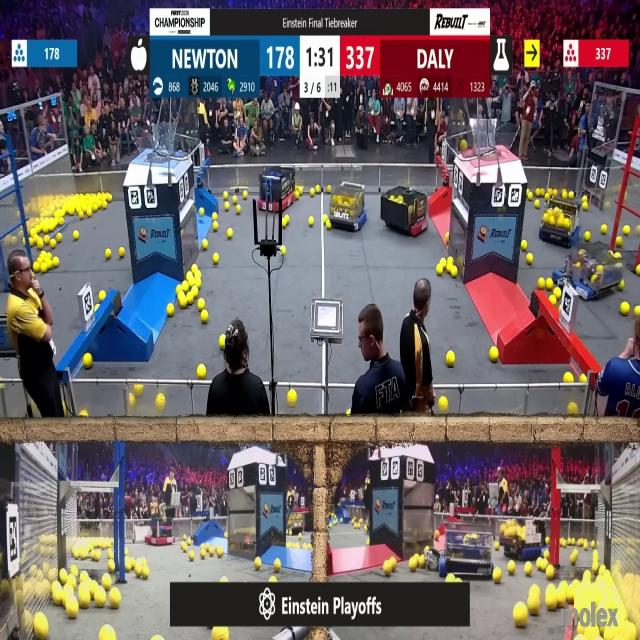ball_airborne: (460, 140, 468, 152)
ball_ground: (515, 604, 528, 628), (66, 599, 78, 618), (109, 590, 120, 609), (100, 626, 114, 640), (528, 598, 540, 614), (95, 592, 106, 608), (79, 592, 90, 608), (545, 597, 555, 611), (490, 347, 499, 362), (198, 363, 207, 378), (383, 561, 392, 576), (288, 390, 296, 406), (568, 404, 577, 418), (102, 574, 111, 588), (83, 353, 91, 368), (493, 568, 501, 583), (158, 394, 166, 409), (447, 352, 455, 366), (441, 396, 449, 410), (621, 304, 630, 316), (545, 566, 553, 579), (411, 558, 418, 572), (141, 567, 149, 579), (275, 559, 282, 572), (507, 561, 514, 574), (179, 294, 186, 307), (202, 311, 209, 323), (168, 305, 175, 317), (570, 552, 577, 564), (108, 560, 115, 572), (186, 292, 193, 304), (525, 563, 532, 575), (536, 558, 543, 570), (135, 565, 142, 577), (123, 560, 130, 572), (61, 570, 68, 582), (564, 374, 572, 384), (190, 286, 198, 296), (80, 571, 88, 581), (134, 384, 142, 394), (219, 337, 225, 350), (538, 278, 545, 289), (435, 266, 442, 277), (554, 288, 561, 299), (419, 557, 426, 568), (254, 558, 260, 570), (447, 573, 455, 582), (70, 566, 78, 575), (105, 248, 112, 258), (545, 279, 552, 289), (212, 253, 219, 263), (451, 268, 458, 278), (54, 257, 61, 267), (282, 216, 288, 227), (199, 300, 205, 311), (527, 253, 533, 263), (203, 240, 209, 250), (118, 248, 124, 258), (522, 240, 528, 250), (618, 237, 624, 247), (100, 290, 106, 300), (186, 272, 192, 282), (182, 282, 188, 292), (194, 278, 200, 288), (217, 549, 223, 559), (270, 575, 278, 582), (79, 412, 87, 419), (635, 306, 640, 317), (601, 224, 607, 233), (579, 375, 585, 384), (226, 230, 232, 239), (624, 225, 630, 234), (41, 265, 47, 274), (57, 235, 63, 244), (534, 200, 540, 209), (188, 552, 194, 561), (108, 551, 114, 560), (560, 538, 566, 547), (34, 238, 40, 247), (586, 232, 591, 242), (309, 216, 314, 226), (212, 221, 218, 229), (448, 256, 454, 264), (325, 220, 331, 228), (346, 410, 352, 418), (50, 240, 56, 248), (527, 190, 533, 198), (494, 541, 500, 549), (542, 552, 548, 560), (551, 296, 557, 304), (310, 188, 316, 196), (365, 538, 371, 546), (182, 542, 188, 550), (68, 208, 74, 216), (43, 237, 49, 245), (281, 247, 286, 256), (621, 281, 626, 290), (34, 265, 39, 274), (442, 257, 447, 266), (584, 203, 589, 212), (434, 530, 439, 539), (220, 576, 227, 582), (322, 215, 328, 222), (615, 252, 621, 259), (237, 206, 242, 214), (636, 266, 640, 276), (107, 192, 112, 200), (445, 234, 450, 242), (316, 185, 321, 193), (86, 209, 91, 217), (544, 192, 549, 200), (294, 190, 299, 198), (78, 211, 83, 219), (123, 546, 128, 554), (636, 224, 640, 233), (200, 208, 205, 215), (535, 188, 540, 195), (103, 202, 108, 209), (326, 185, 331, 192), (74, 233, 78, 241), (244, 190, 248, 198), (224, 203, 228, 211), (191, 266, 195, 274), (202, 551, 206, 559), (586, 542, 590, 550), (152, 636, 160, 640), (544, 536, 548, 544), (425, 544, 429, 552), (363, 526, 368, 532), (223, 191, 227, 198), (234, 195, 238, 202), (213, 213, 217, 220), (0, 384, 4, 391), (187, 538, 191, 544), (177, 284, 180, 292), (298, 533, 301, 540), (224, 532, 227, 538)
goal: (466, 122, 522, 160), (130, 131, 188, 160)
robot_blue: (440, 516, 496, 580), (568, 244, 622, 302), (500, 515, 547, 561), (540, 197, 582, 248), (329, 184, 368, 232), (286, 511, 304, 534)
robot_red: (381, 185, 427, 238), (256, 166, 296, 214), (146, 518, 176, 545)
